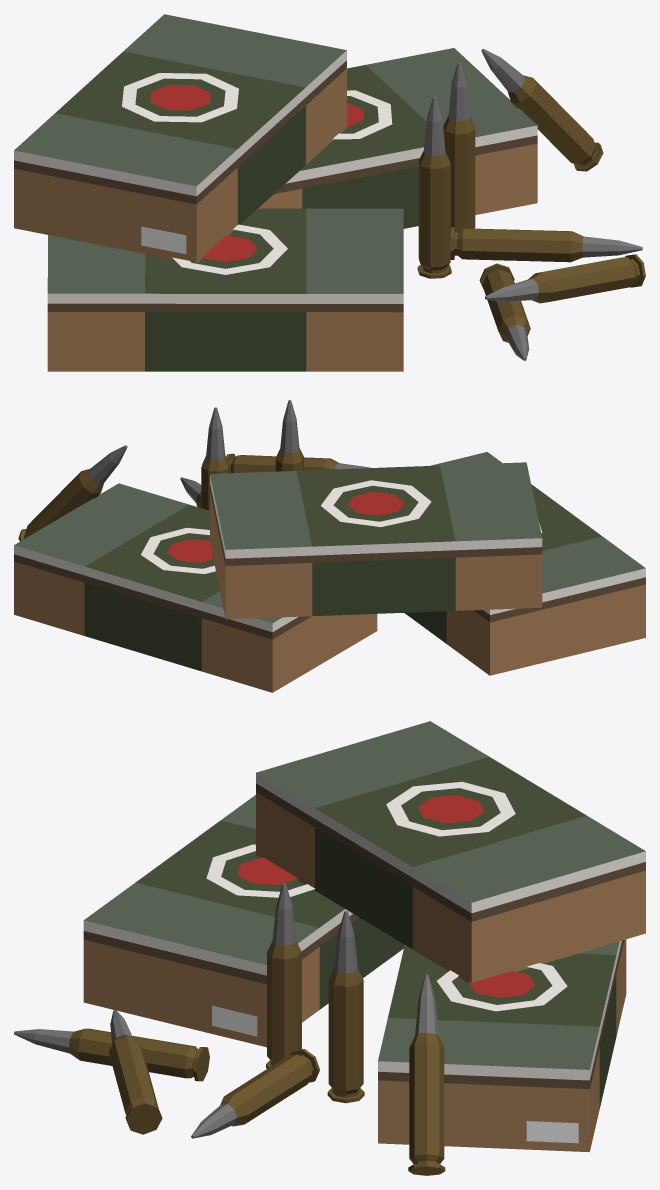
Rendered from SM_Ammo_Box_01.glb.
3 renders of one model, top to bottom at view 1: azimuth 30°, elevation 25°; view 2: azimuth 150°, elevation 25°; view 3: azimuth 270°, elevation 25°, orthographic. The views are drawn at different scales.
Parts seen in each view (by area): view 1: SM_Ammo_Box_01; view 2: SM_Ammo_Box_01; view 3: SM_Ammo_Box_01.
Part boxes in pixels (x1,y1,x2,y2): SM_Ammo_Box_01: (14,14,645,371); SM_Ammo_Box_01: (14,400,645,692); SM_Ammo_Box_01: (14,721,645,1175).
Size of the model in its own units: 0.4564 by 0.122 by 0.3775.
Materials: 1 (1 with a texture image).
